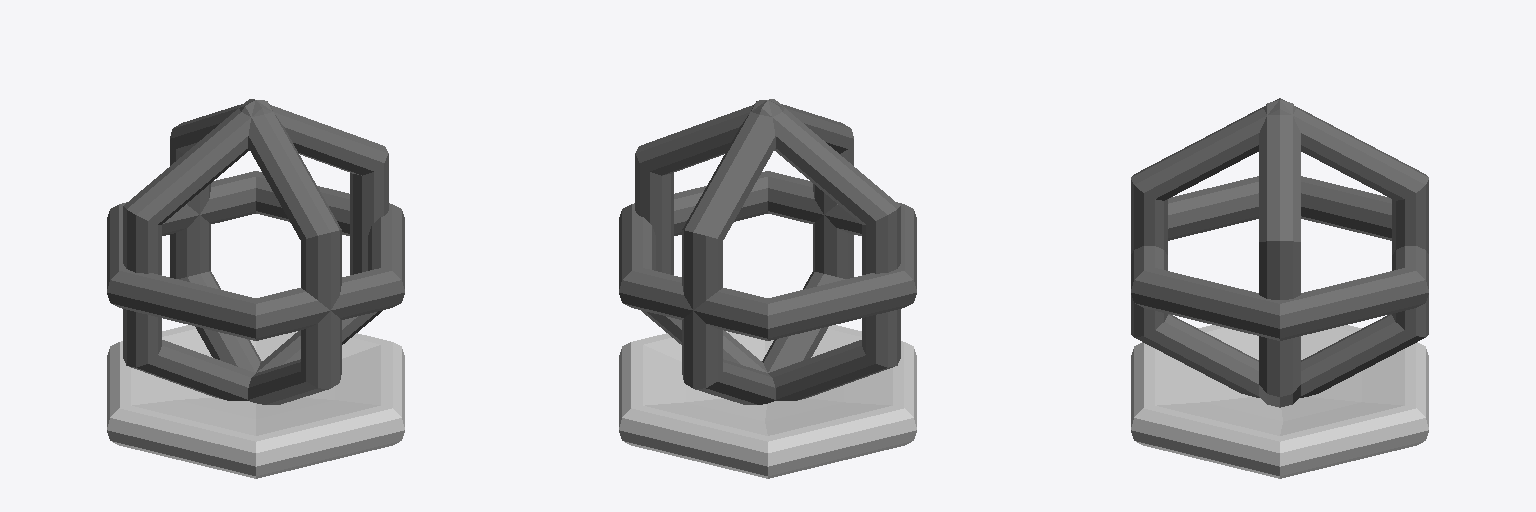
The model's file is Statue_03.obj.
3 views of the same model, side by side, from view 1: azimuth 30°, elevation 25°; view 2: azimuth 150°, elevation 25°; view 3: azimuth 270°, elevation 25° (orthographic).
Parts seen in each view (by area): view 1: Statue_03; view 2: Statue_03; view 3: Statue_03.
Boxes of the visible parts, x1,y1,x2,y2 form: Statue_03: [107, 99, 404, 478]; Statue_03: [619, 99, 916, 478]; Statue_03: [1131, 98, 1428, 478].
Size of the model in its own units: 1.6 by 1.6 by 1.39.